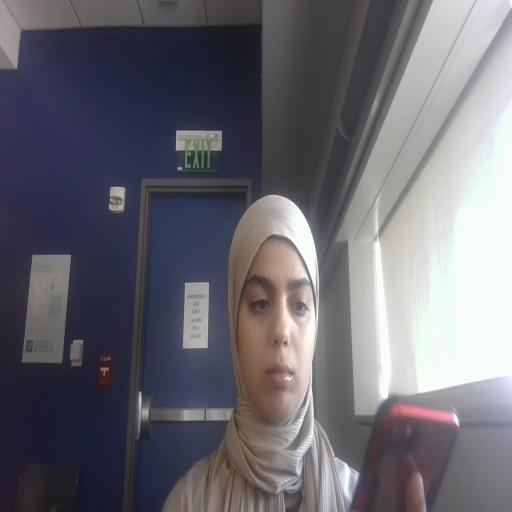phone: (352, 372, 473, 512)
